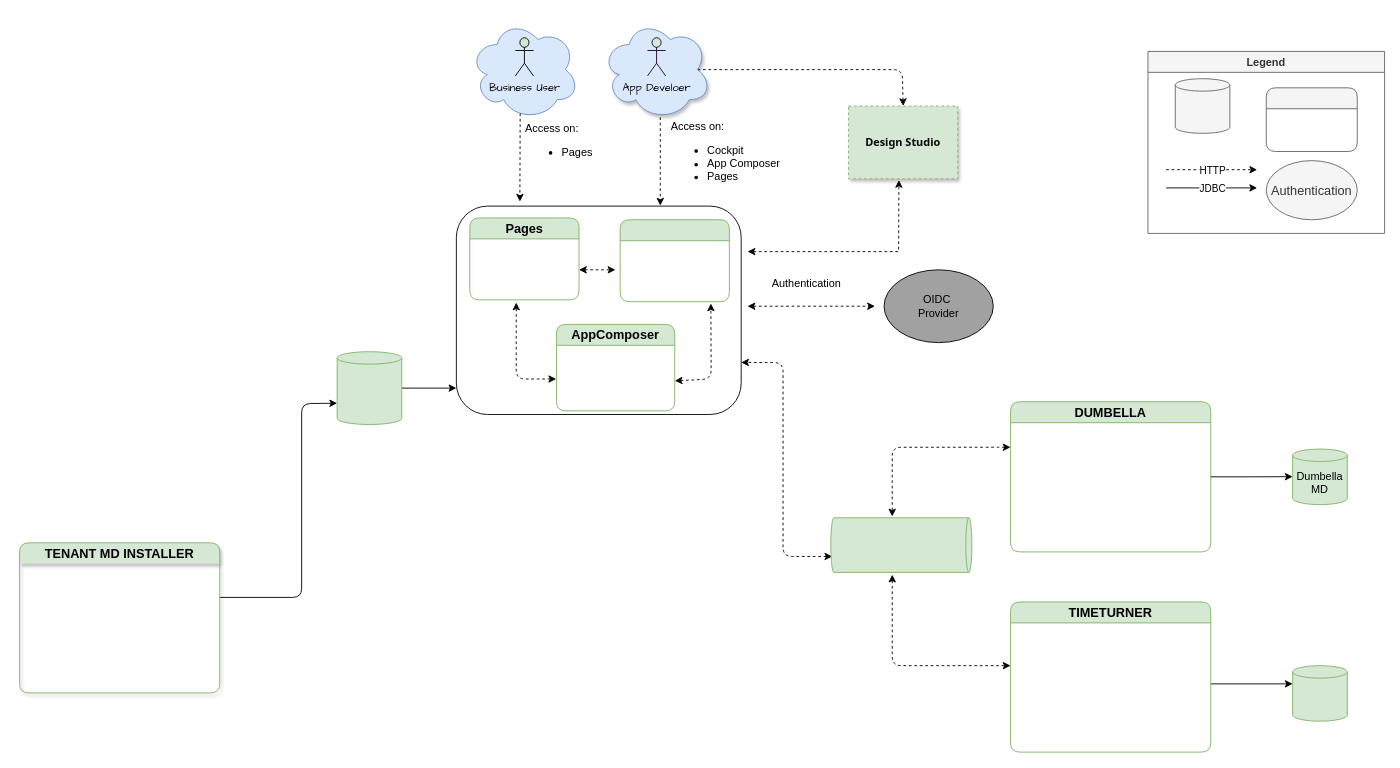
Some shapes in this 1400 by 768 pixel diagram are drawn without their labels. Here are the shapes that lost their labels. From the top down, the centre of each, then its label:
the point at 1202,105: Database
the point at 1311,119: Microservice
the point at 674,260: Cockpit
the point at 369,388: Application Metadata
the point at 901,544: HUB Message Broker
the point at 1319,693: Timeturner MD
